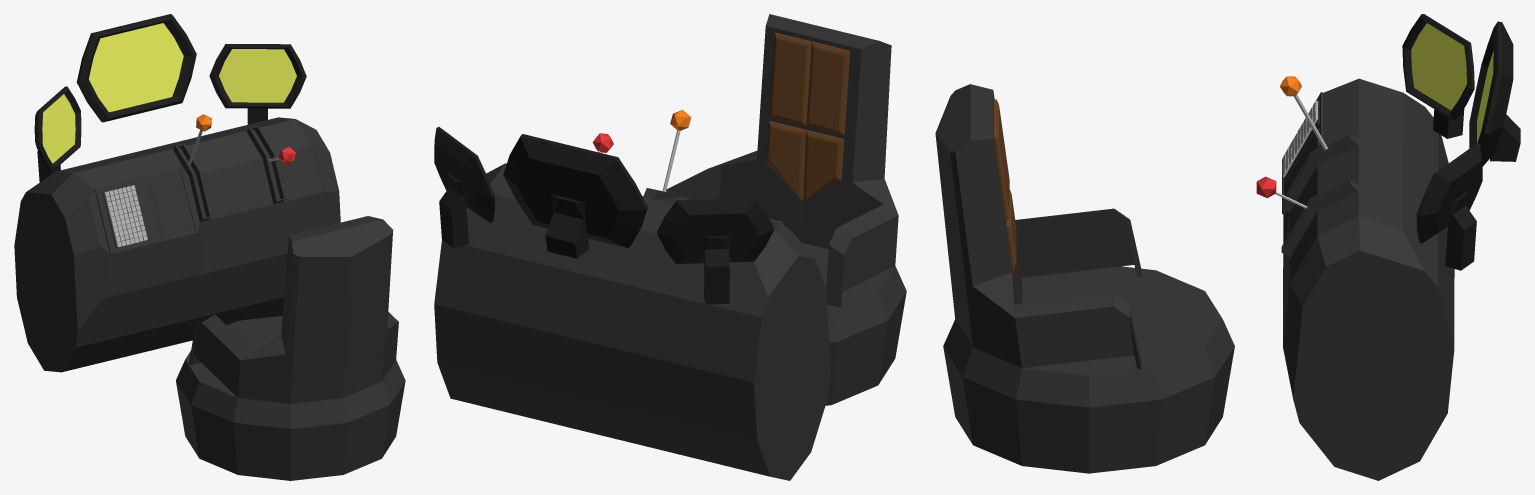
The model's file is Alienthrone.fbx.
3 renders of one model, left to right at view 1: azimuth 30°, elevation 25°; view 2: azimuth 150°, elevation 25°; view 3: azimuth 270°, elevation 25°, orthographic. The views are drawn at different scales.
Visible parts, largest first — view 1: Mesh_Priestess.003; view 2: Mesh_Priestess.003; view 3: Mesh_Priestess.003.
Boxes of the visible parts, box(x1,y1,x2,y2) form: Mesh_Priestess.003: box(14, 14, 405, 480); Mesh_Priestess.003: box(434, 14, 906, 480); Mesh_Priestess.003: box(935, 14, 1520, 480).
Size of the model in its own units: 15.61 by 15.73 by 22.37.
